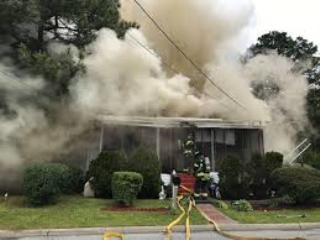smoke: (75, 16, 286, 115)
